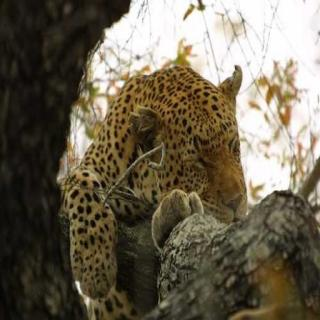Leopard: (61, 46, 263, 320)
